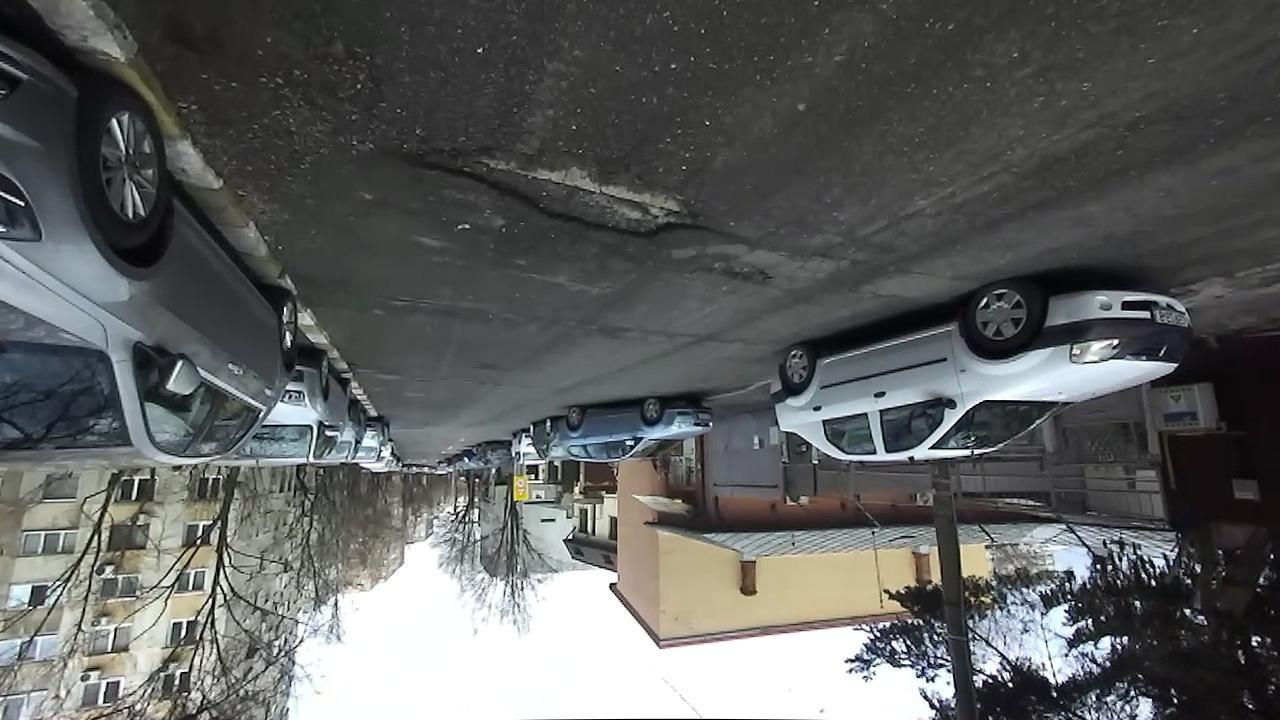pothole: (393, 139, 734, 245), (687, 258, 779, 292)
